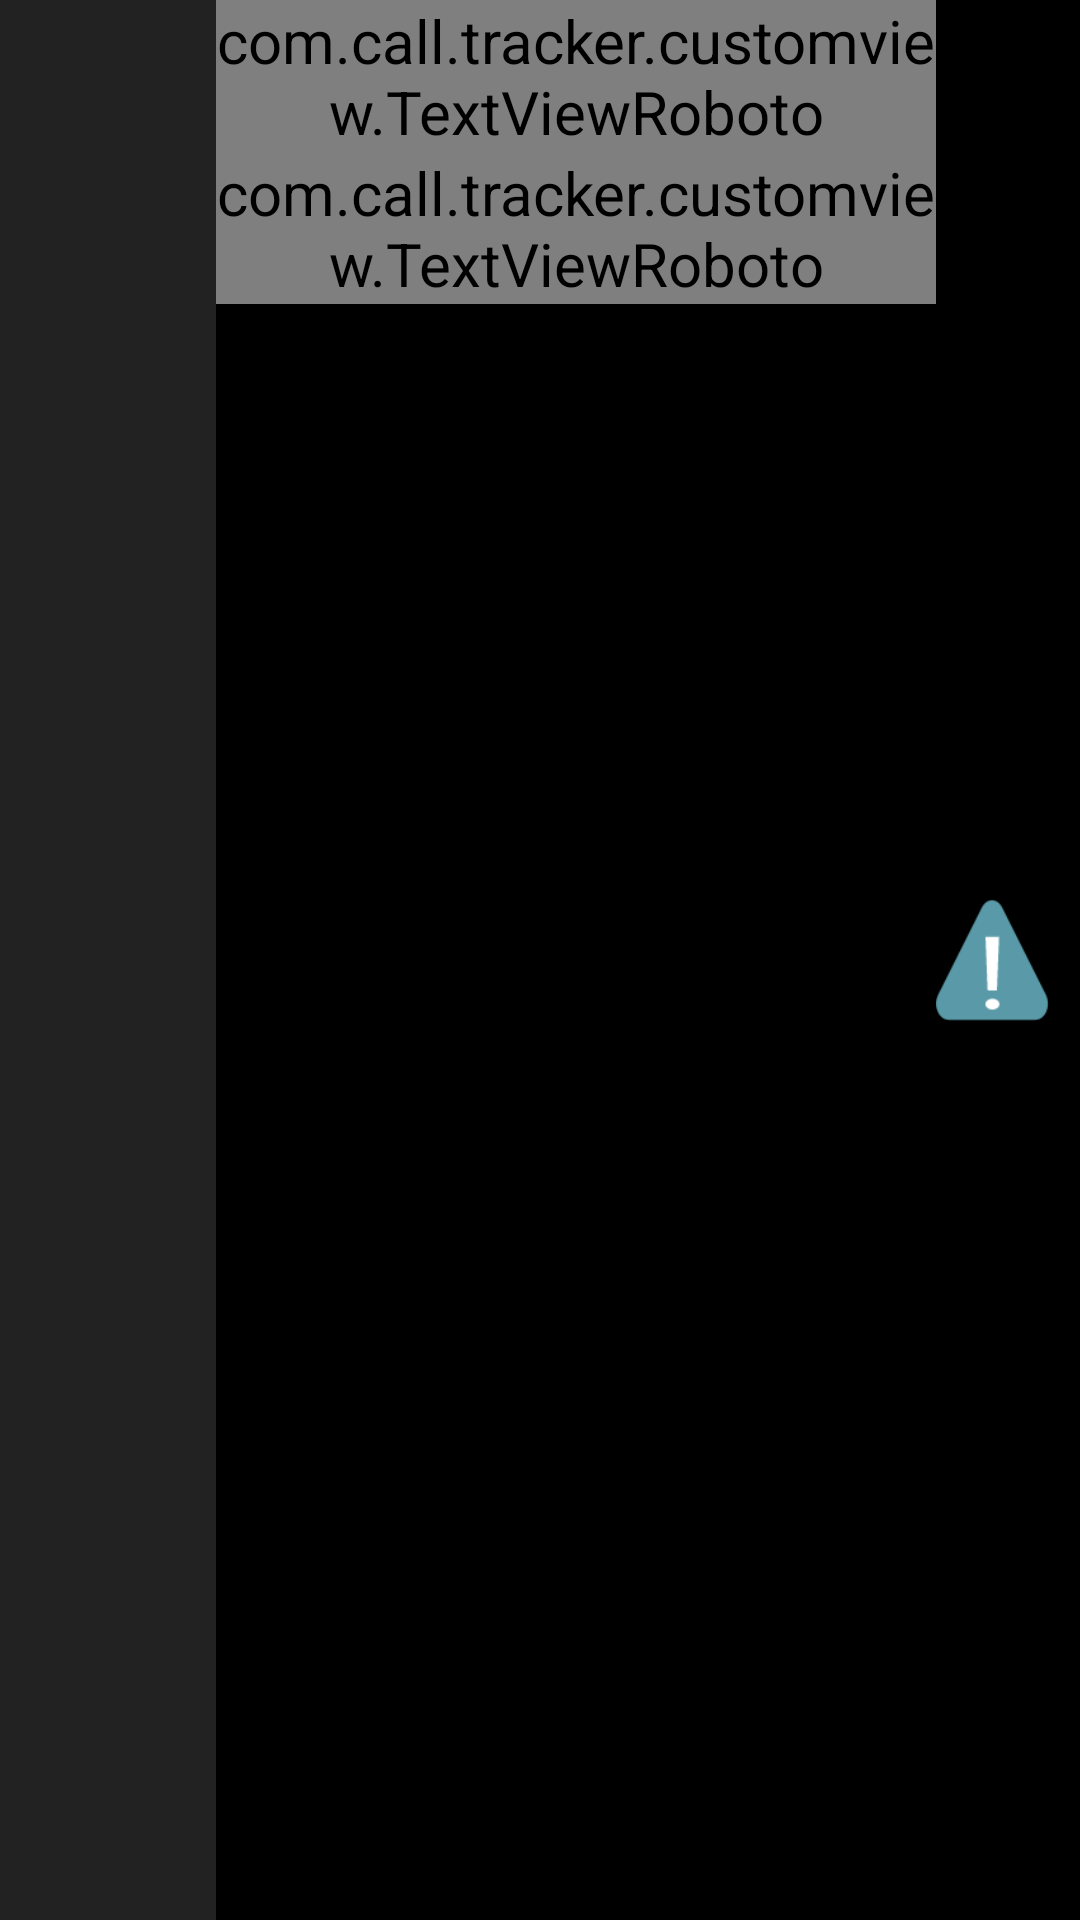

Icons on this 1080*1920 Android screen, each with its box as [x1,y1,x2,y2]:
Urgency Describer: [936,900,1048,1021]
